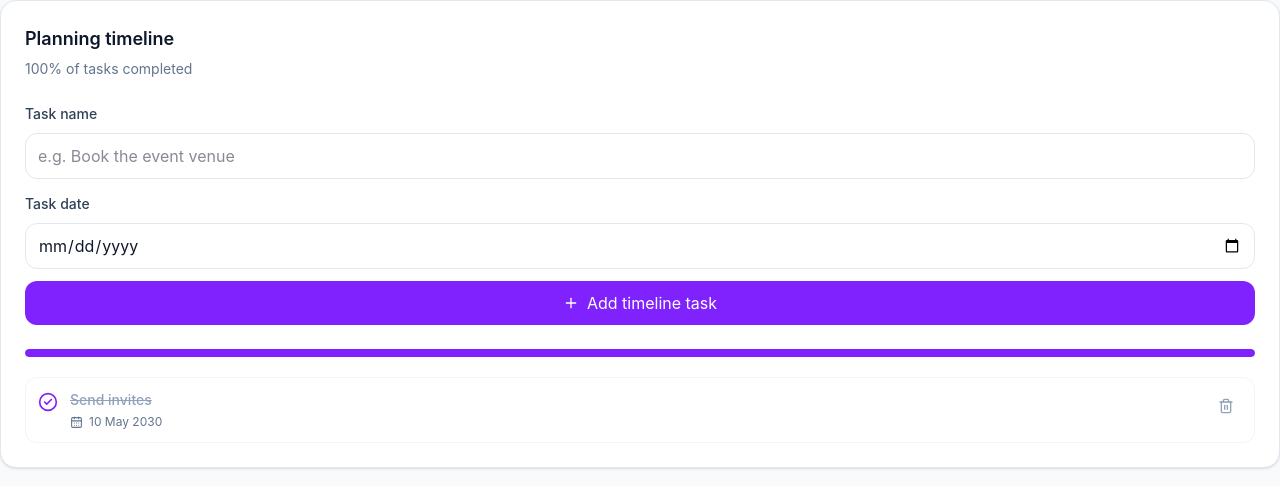
Test: TimelinePanel › deletes a task and shows the empty state
The width and height of the screenshot is (1280, 486).
Click the button named "Delete Send invites".
click(1226, 406)  # box [1210,390,1242,422]
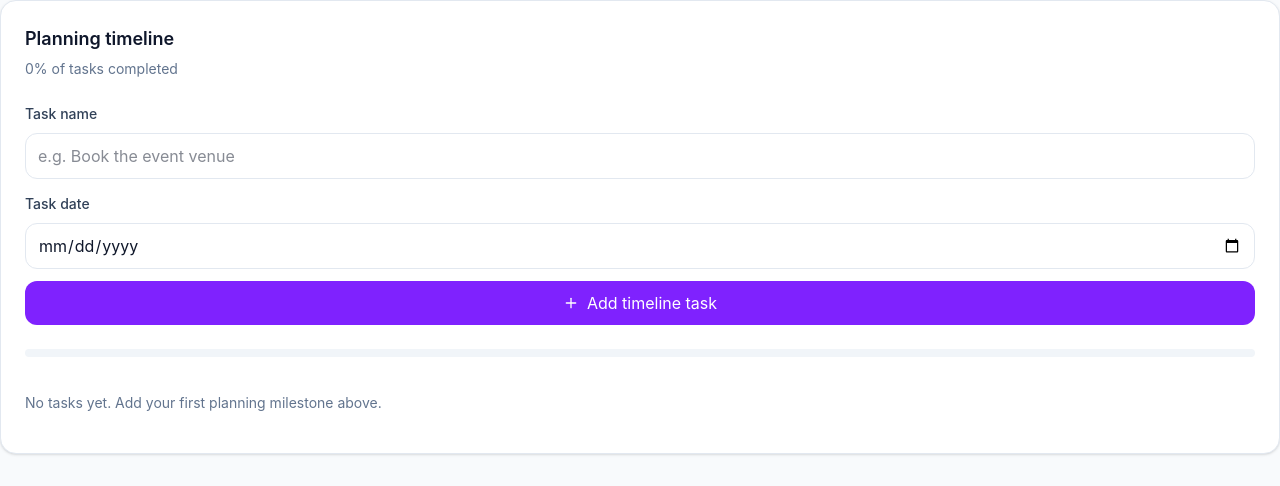
Expected: the text "0% of tasks completed" is shown, [25,60,178,77]
Result: the text "No tasks yet. Add your first planning milestone above." is shown at [25,394,382,411]
